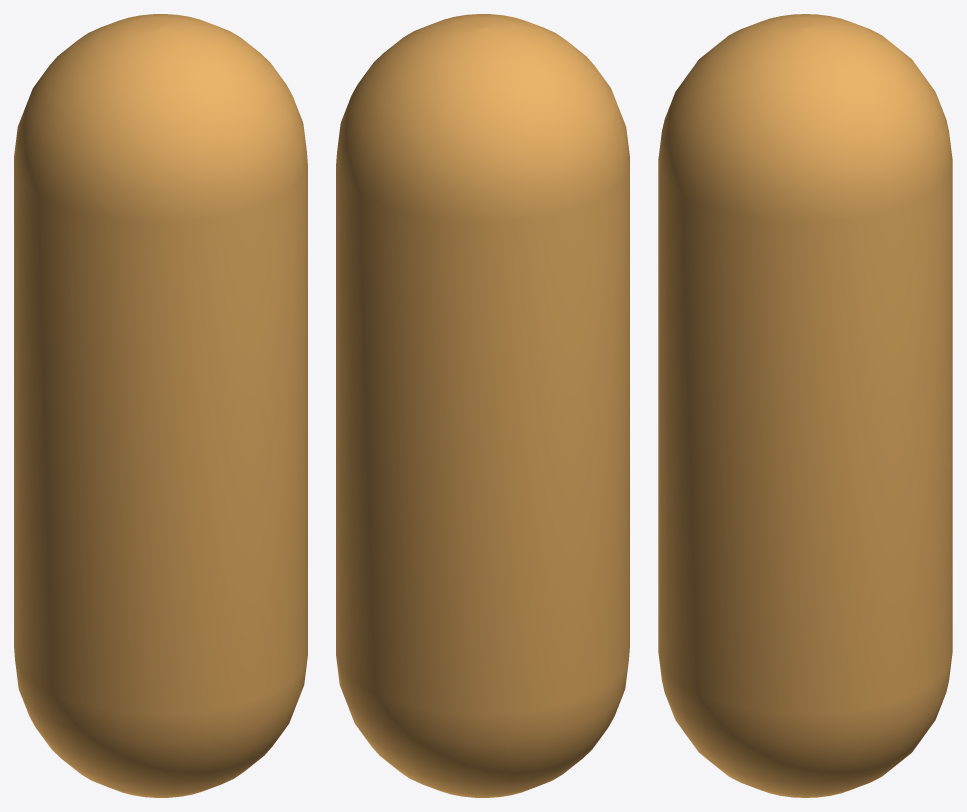
The model's file is Seeker.fbx.
The picture shows the model from 3 angles, left to right: view 1: azimuth 30°, elevation 25°; view 2: azimuth 150°, elevation 25°; view 3: azimuth 270°, elevation 25°; orthographic projection.
Parts seen in each view (by area): view 1: Cylinder; view 2: Cylinder; view 3: Cylinder.
Boxes of the visible parts, x1,y1,x2,y2 form: Cylinder: (14, 14, 307, 797); Cylinder: (336, 14, 629, 797); Cylinder: (658, 14, 952, 797).
Size of the model in its own units: 60 by 170 by 60.
